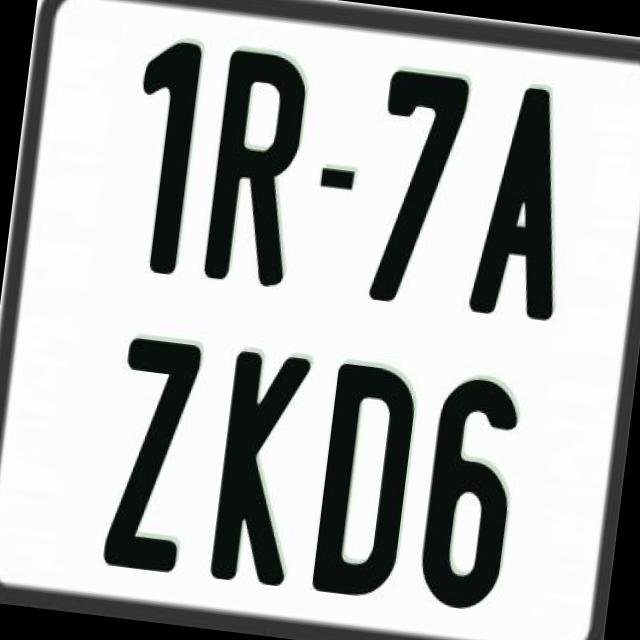1: (117, 35, 204, 276)
6: (416, 372, 524, 612)
7: (360, 66, 470, 306)
A: (464, 80, 576, 322)
D: (308, 357, 423, 603)
K: (206, 350, 310, 592)
R: (200, 46, 308, 294)
Z: (98, 336, 198, 578)
